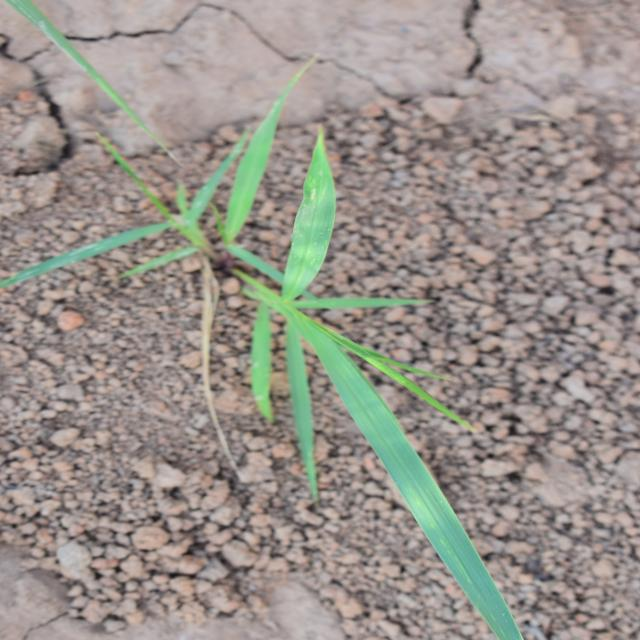green_foxtail: (47, 172, 490, 494)
